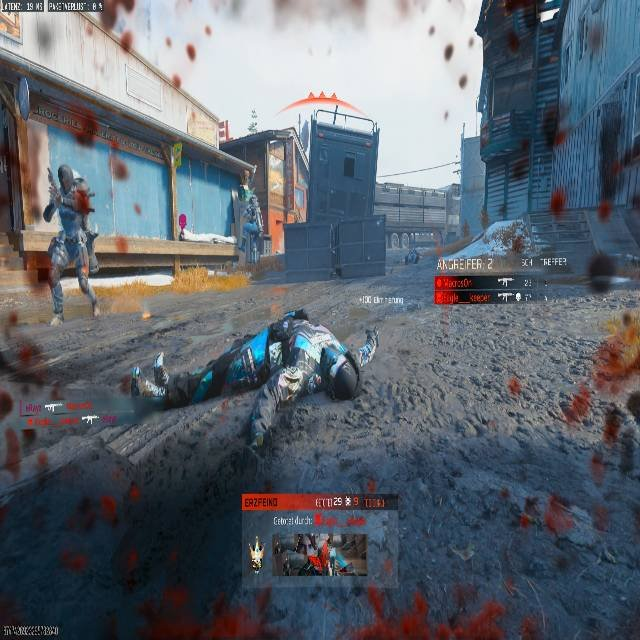head: (338, 325, 379, 368), (326, 354, 358, 401), (57, 164, 75, 190)
player: (42, 164, 99, 327), (402, 246, 422, 264)
